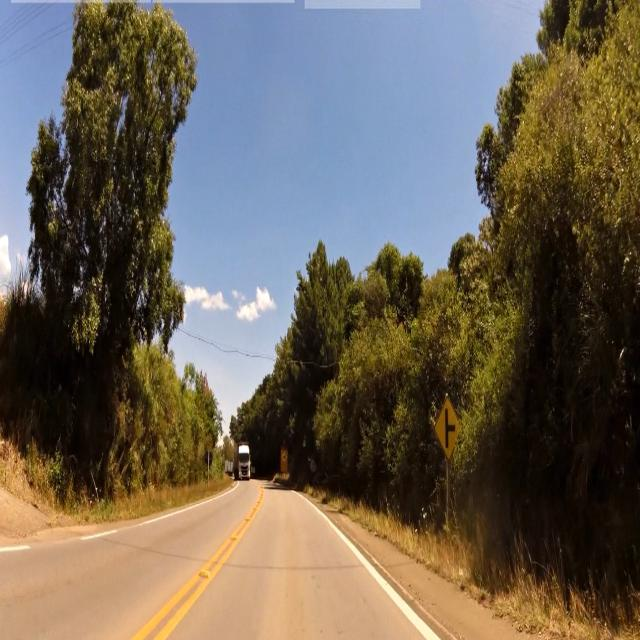E-5: (436, 394, 462, 457)
